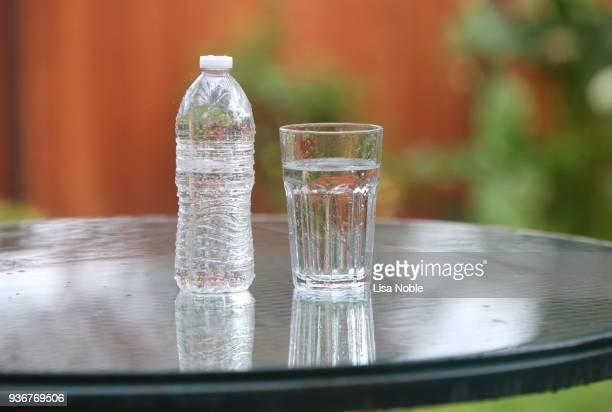bottle: (172, 45, 260, 293)
